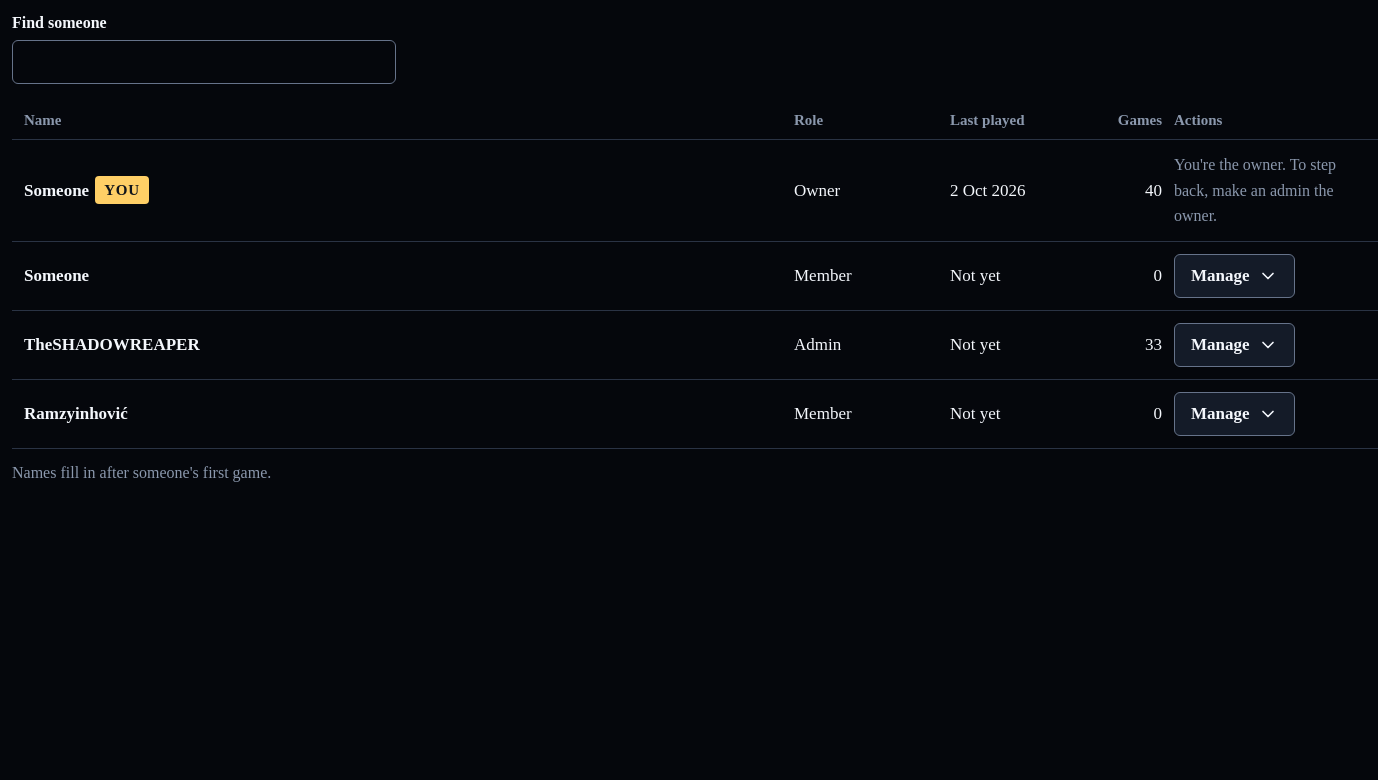
the members list › admin round 2: a row with no name yet reads Someone, with the hint once and no PUUID fragment
Expected: the element "Someone You" is shown, [24, 176, 149, 204]
Expected: the text "Names fill in after someone's first game." is shown once, [12, 464, 271, 480]
# `this player` only inside the sentences.
Click the button with aria-label "Manage Someone, row 2". click: click(1234, 276)
box: [1174, 254, 1294, 298]
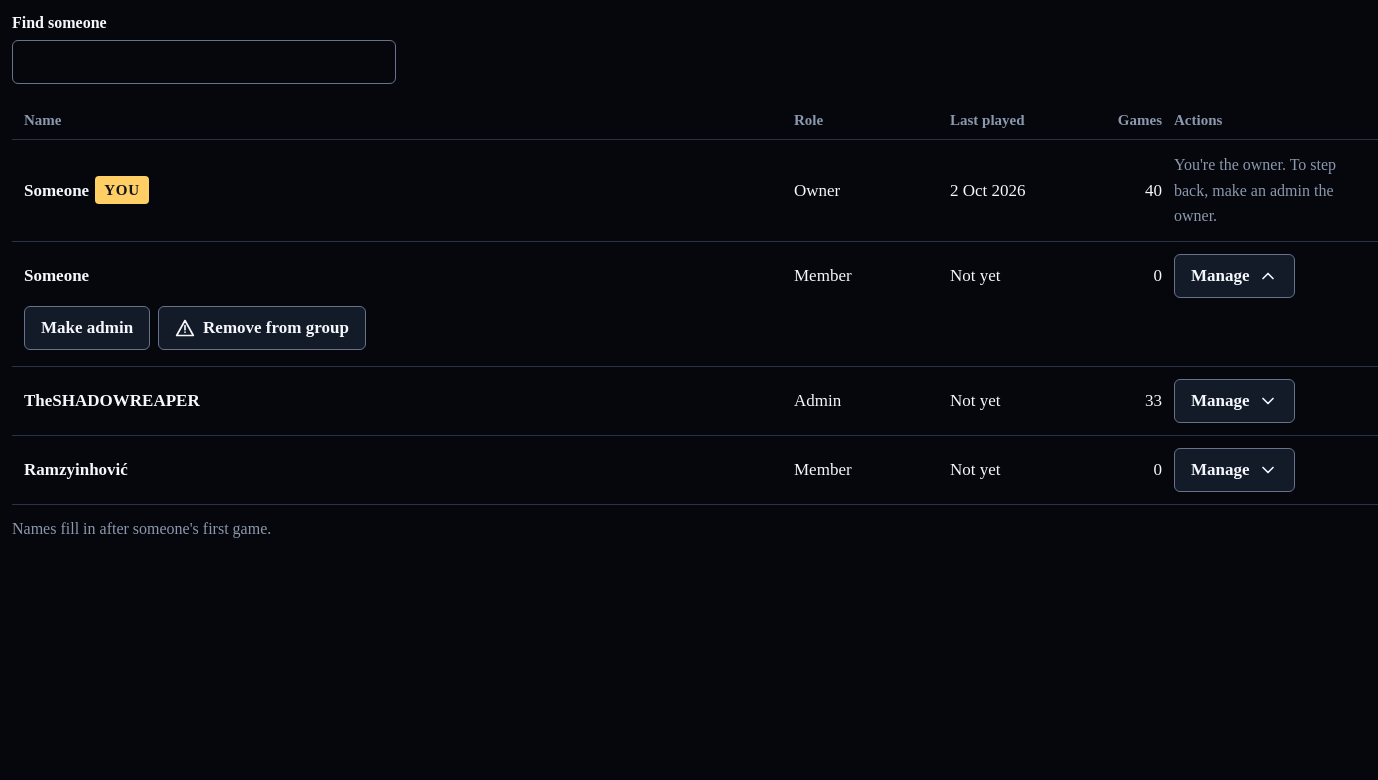
Expected: the button "Remove from group" is shown, [158, 306, 366, 350]
